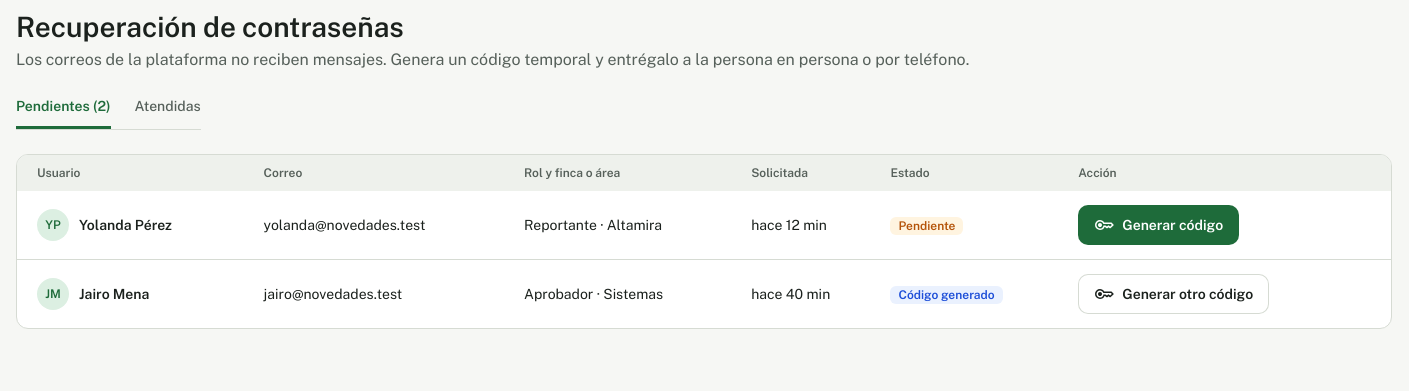
Pantalla 32 · Recuperación de contraseñas (RF-02 / CU-02 5) › RF-02: en «Atendidas» están las usadas y las vencidas, sin ninguna acción
The image size is (1409, 391).
Click the tab "Atendidas": (168, 112) [134,96,200,129]
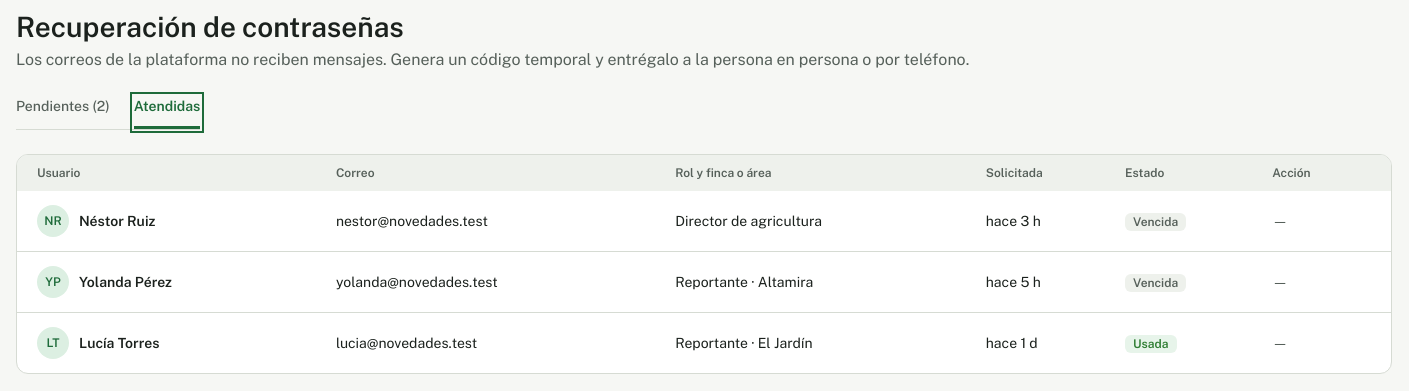
Now the button "Generar" is gone
